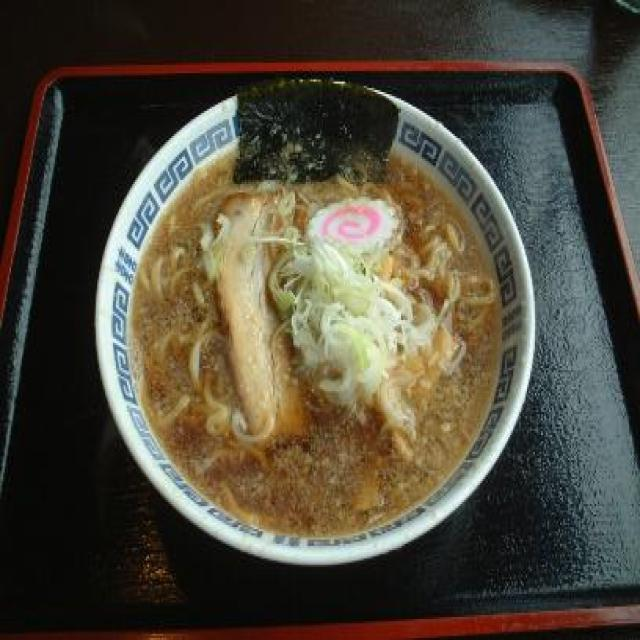面条主食: (88, 77, 535, 571)
